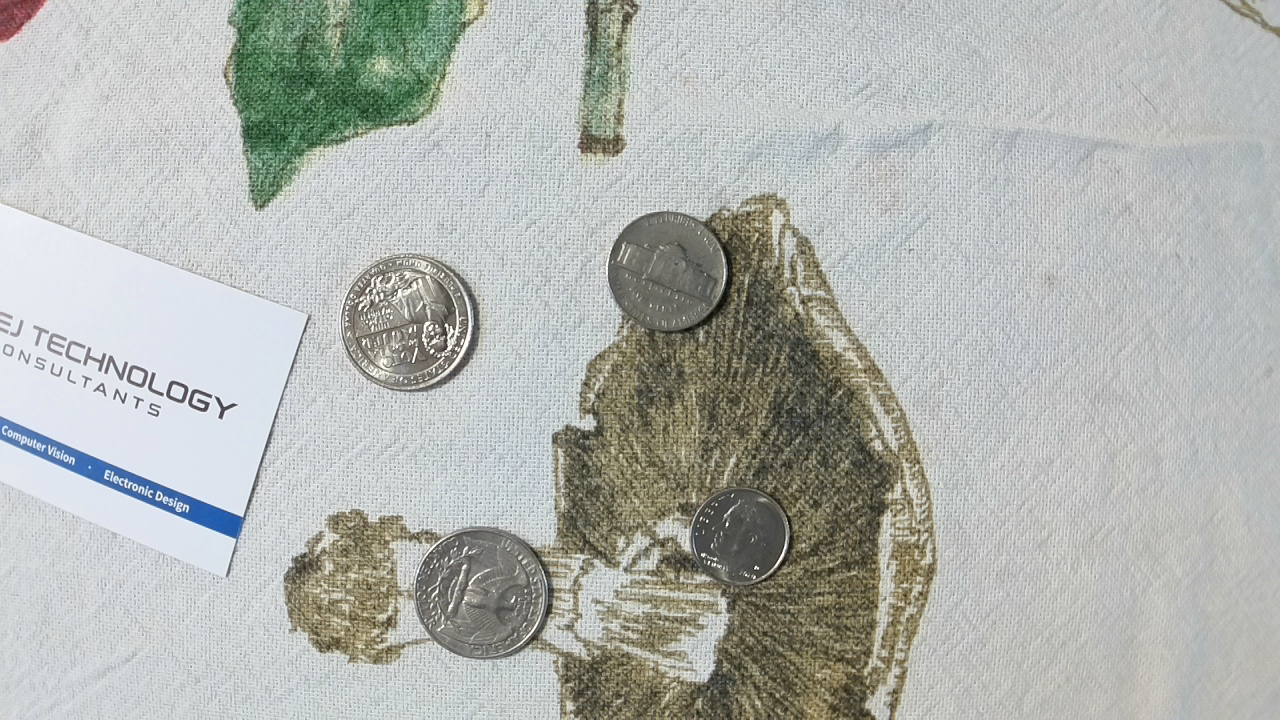dime: (688, 485, 794, 587)
nickel: (601, 210, 731, 334)
quarter: (336, 250, 482, 394), (413, 522, 551, 662)
